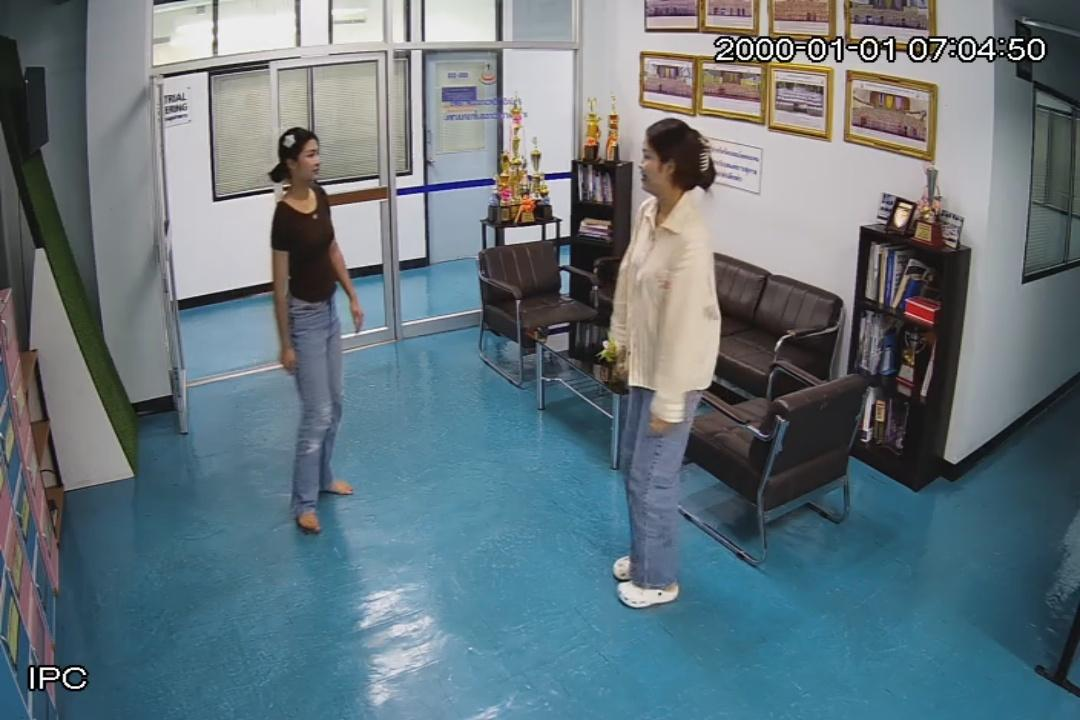normal: (610, 118, 719, 603), (267, 128, 367, 526)
